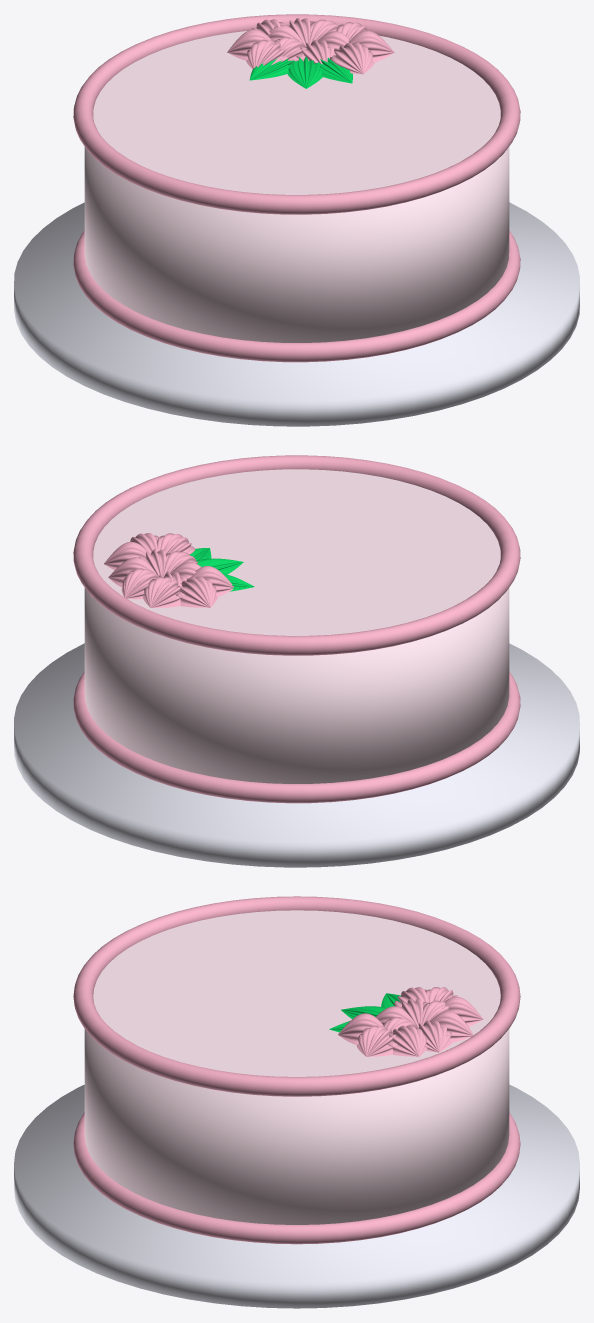
The model's file is round_strawberry_style2.glb.
The picture shows the model from 3 angles, top to bottom: view 1: azimuth 30°, elevation 25°; view 2: azimuth 150°, elevation 25°; view 3: azimuth 270°, elevation 25°; orthographic projection.
Parts seen in each view (by area): view 1: CakeBase, IcingStand, CakeTopCircle, IcingRing, IcingRing.001, leaf.001, design10, design11, design7, design12, design3; view 2: CakeBase, IcingStand, CakeTopCircle, IcingRing, IcingRing.001, design12, design9, leaf.001, design4, design8, design11, design5 (+1 smaller); view 3: CakeBase, IcingStand, CakeTopCircle, IcingRing, IcingRing.001, design7, design8, design5, design4, design10, leaf.001, design9.
Part boxes in pixels (<box>): CakeBase: <box>84,147,509,342</box>; IcingStand: <box>14,202,579,426</box>; CakeTopCircle: <box>93,31,500,194</box>; IcingRing: <box>73,14,520,214</box>; IcingRing.001: <box>73,230,520,362</box>; leaf.001: <box>249,57,352,88</box>; design10: <box>330,42,374,74</box>; design11: <box>246,39,288,68</box>; design7: <box>349,30,394,62</box>; design12: <box>227,29,271,60</box>; design3: <box>296,40,334,64</box>; CakeBase: <box>84,588,509,783</box>; IcingStand: <box>14,643,579,867</box>; CakeTopCircle: <box>93,469,500,635</box>; IcingRing: <box>73,455,520,655</box>; IcingRing.001: <box>73,671,520,803</box>; design12: <box>175,576,217,607</box>; design9: <box>143,576,185,607</box>; leaf.001: <box>189,548,254,591</box>; design4: <box>121,568,159,599</box>; design8: <box>104,542,150,570</box>; design11: <box>190,566,233,596</box>; design5: <box>108,557,156,587</box>; CakeBase: <box>84,1029,509,1224</box>; IcingStand: <box>14,1084,579,1308</box>; CakeTopCircle: <box>93,910,500,1076</box>; IcingRing: <box>73,896,520,1096</box>; IcingRing.001: <box>73,1112,520,1244</box>; design7: <box>356,1025,397,1056</box>; design8: <box>387,1025,427,1056</box>; design5: <box>419,1020,451,1052</box>; design4: <box>430,1011,473,1042</box>; design10: <box>338,1013,383,1044</box>; leaf.001: <box>329,993,400,1032</box>; design9: <box>442,996,483,1026</box>.
Size of the model in its own units: 4 by 1.69 by 4.
